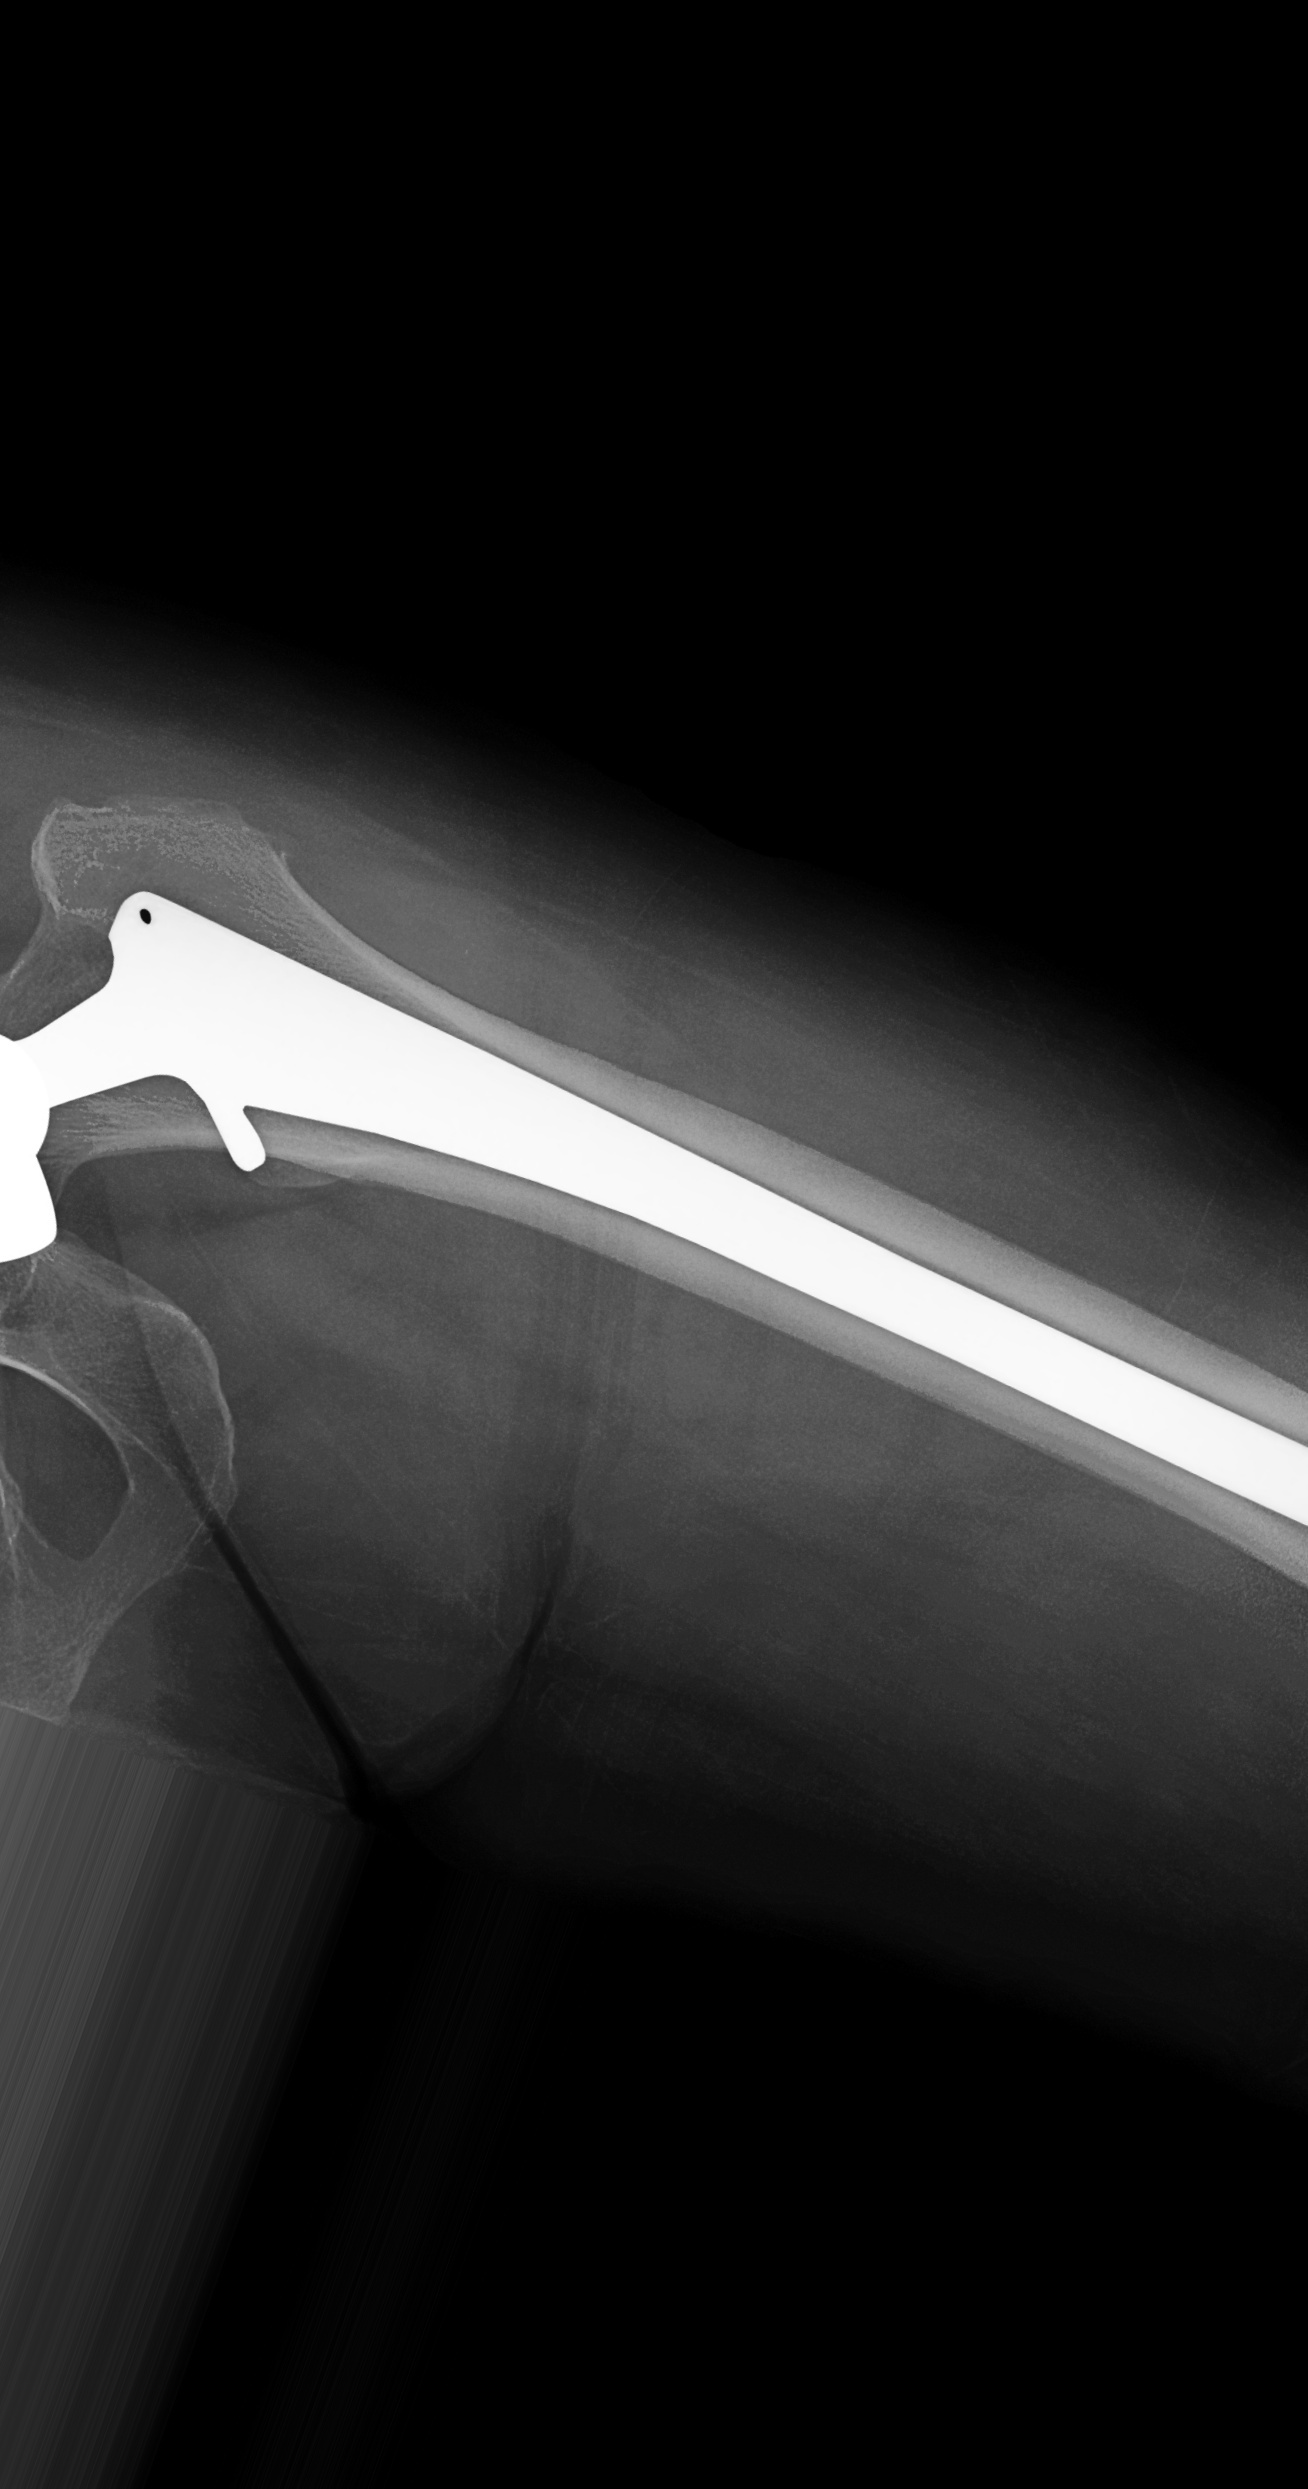Hip-Bias-Zimmer: (2, 882, 1308, 1536)
